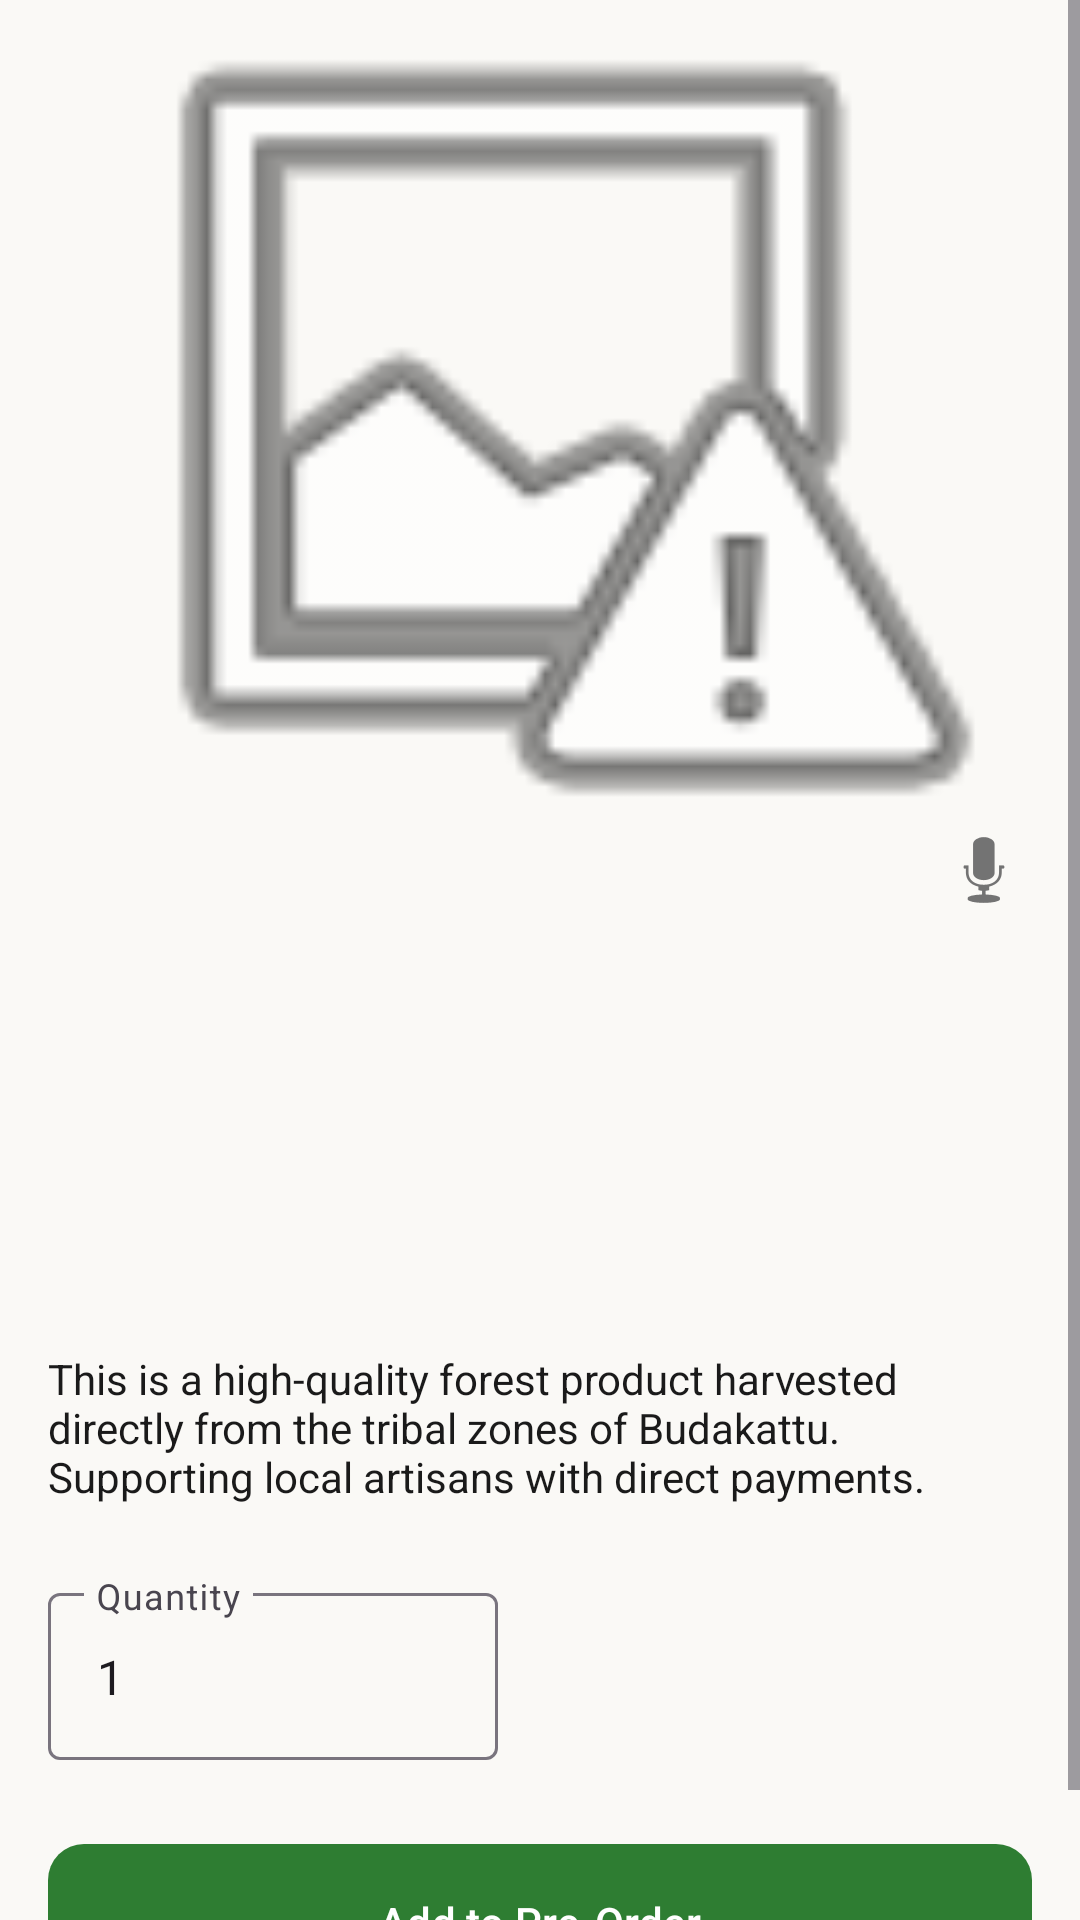

Screen size 1080 x 1920. Icon name, then its center in pixels as [x,y]:
speak now: [984,870]
